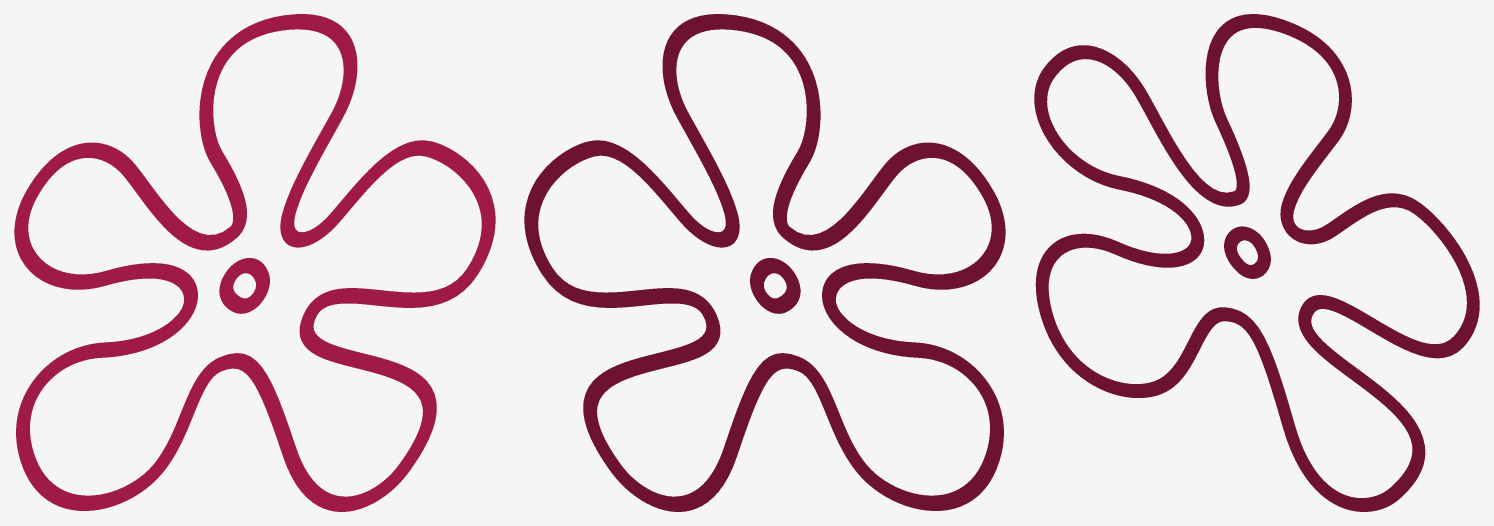
The model's file is flower_9.obj.
3 renders of one model, left to right at view 1: azimuth 30°, elevation 25°; view 2: azimuth 150°, elevation 25°; view 3: azimuth 330°, elevation 25°, orthographic. The views are drawn at different scales.
Visible parts, largest first — view 1: flower_9; view 2: flower_9; view 3: flower_9.
Part boxes in pixels (x1=…): flower_9: x1=14, y1=14, x2=495, y2=511; flower_9: x1=524, y1=14, x2=1005, y2=511; flower_9: x1=1034, y1=14, x2=1479, y2=511.
Size of the model in its own units: 2.56 by 2.61 by 0.
